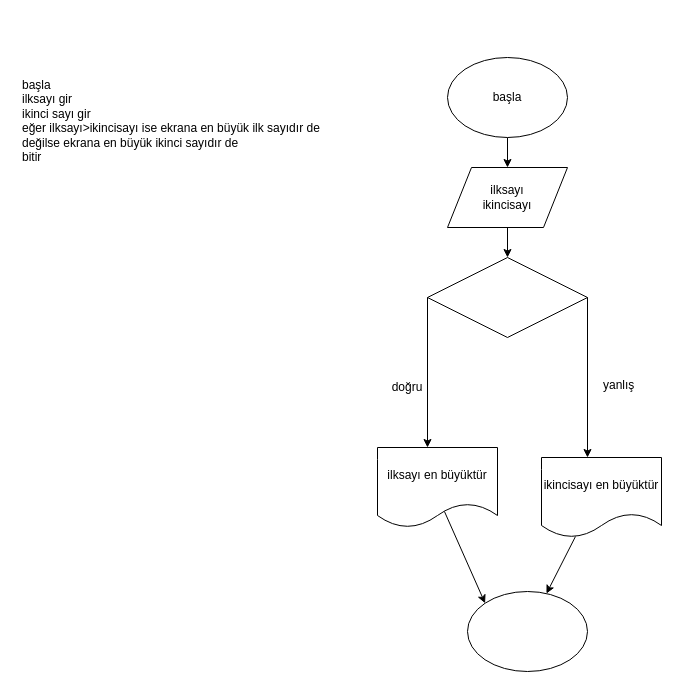
This 679x689 diagram has some shape labels left out. Each missing label, with the centre of its shape:
"bitir" goes at pixel 527 631.
"ilksayı>ikincisayı ise" goes at pixel 507 297.
